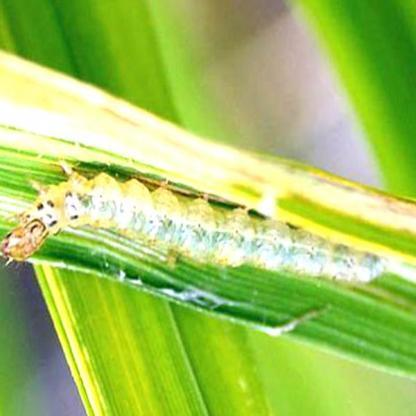leaf-folder: (4, 138, 387, 320)
